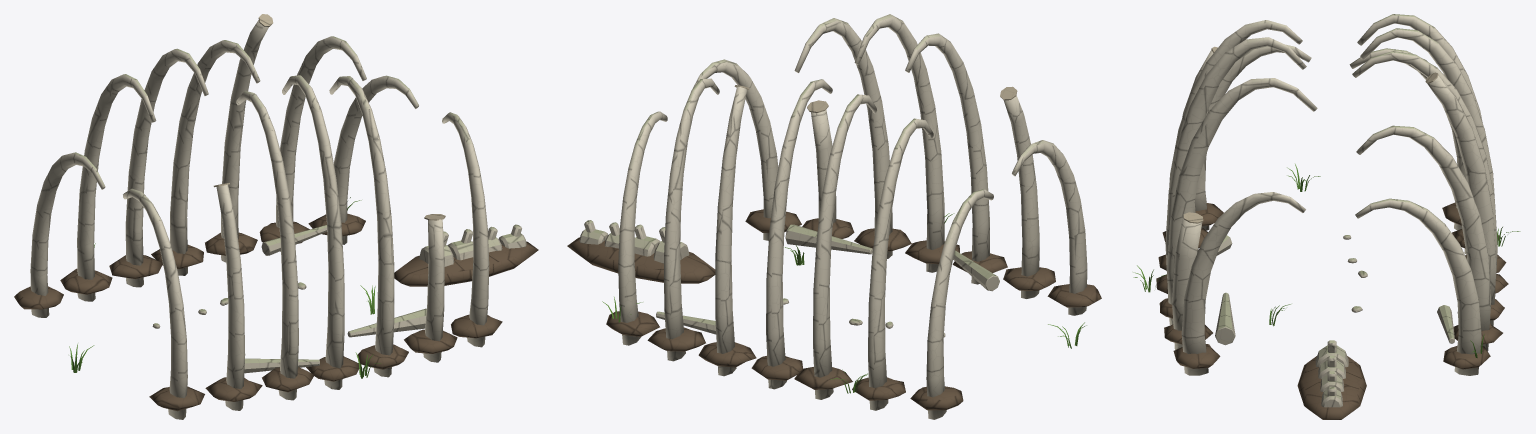
File: rib_cage_bones.glb
3 renders of one model, left to right at view 1: azimuth 30°, elevation 25°; view 2: azimuth 150°, elevation 25°; view 3: azimuth 270°, elevation 25°, orthographic. The views are drawn at different scales.
Visible parts, largest first — view 1: rib_cage_bones; view 2: rib_cage_bones; view 3: rib_cage_bones.
Part boxes in pixels (x1,y1,x2,y2): rib_cage_bones: (14, 14, 538, 419); rib_cage_bones: (567, 14, 1101, 419); rib_cage_bones: (1133, 14, 1520, 419).
Size of the model in its own units: 8.72 by 4.72 by 6.21.
Materials: 4 (4 with a texture image).
